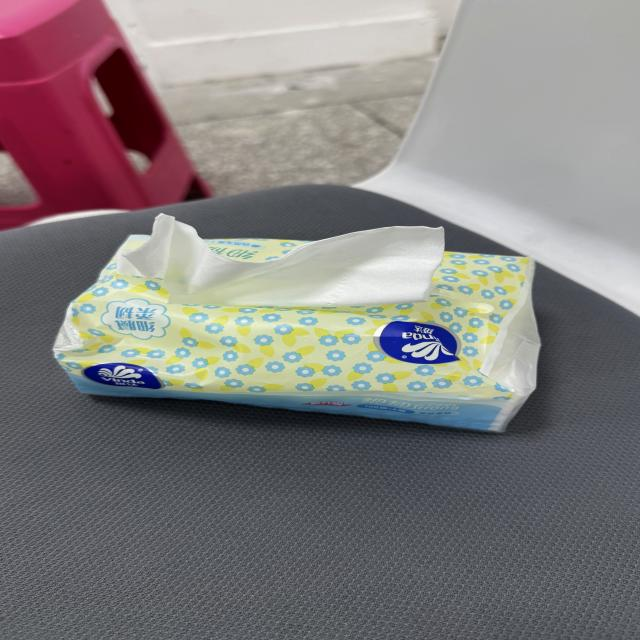tissue: (55, 237, 539, 431), (118, 215, 443, 306)
